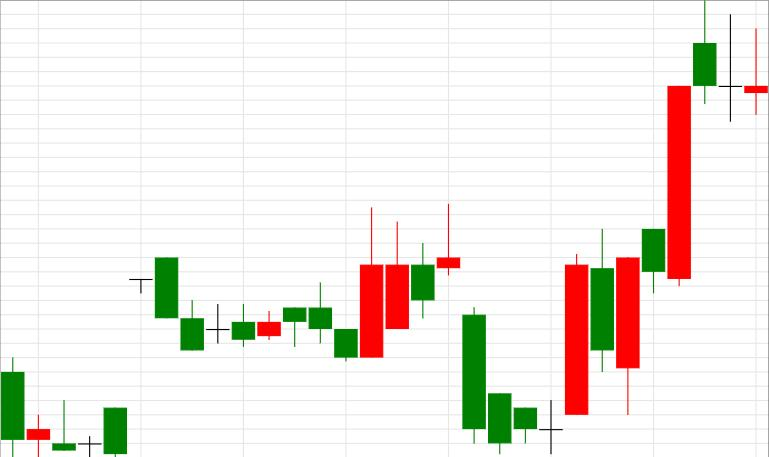morning_star_rise: (437, 204, 588, 455)
